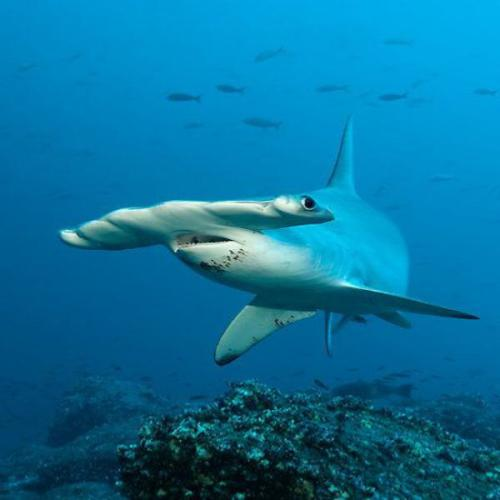shark-endangered: (59, 115, 481, 369)
